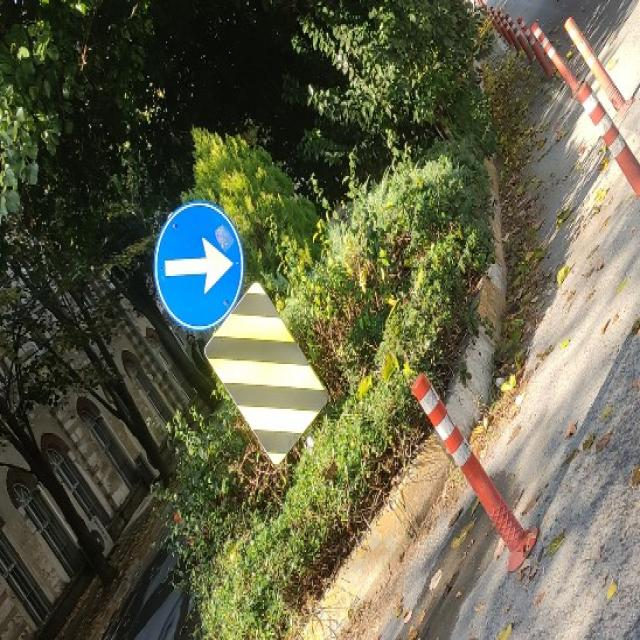Turn Right: (150, 201, 248, 332)
